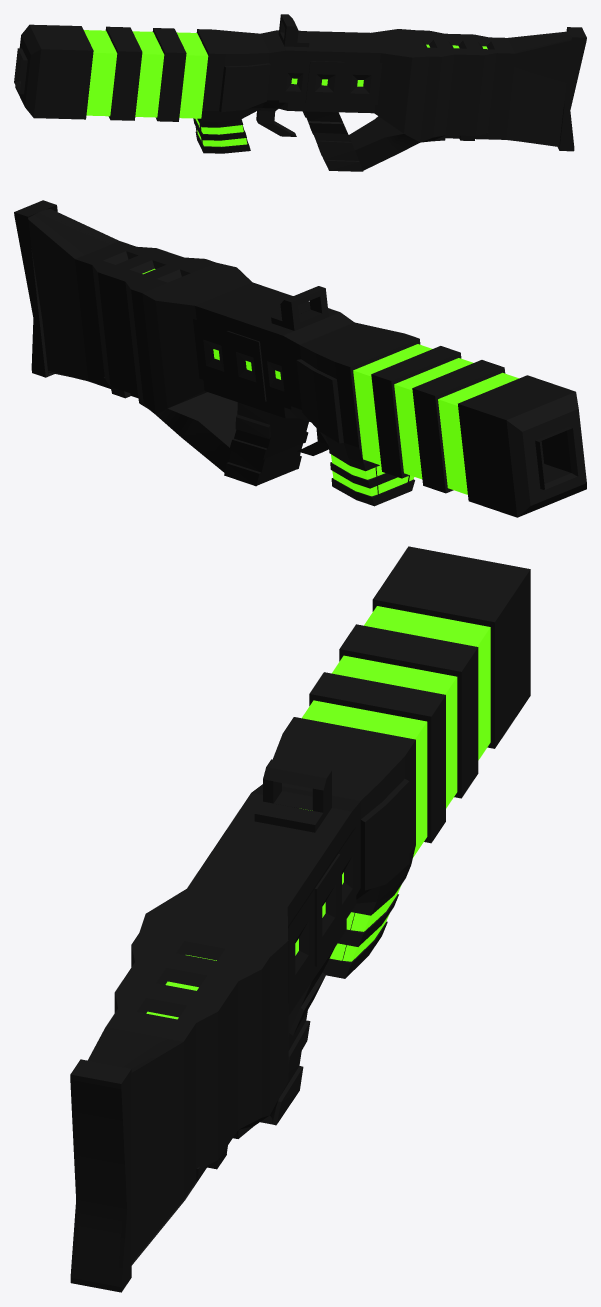
File: gravity-gun.fbx
3 renders of one model, top to bottom at view 1: azimuth 30°, elevation 25°; view 2: azimuth 150°, elevation 25°; view 3: azimuth 270°, elevation 25°, orthographic. The views are drawn at different scales.
Parts seen in each view (by area): view 1: mirror test; view 2: mirror test; view 3: mirror test.
Part boxes in pixels (x1,y1,x2,y2): mirror test: [14, 14, 586, 171]; mirror test: [14, 200, 586, 517]; mirror test: [70, 546, 530, 1292].
Bounding box in the file's own units: 69.62 × 21.04 × 28.86.
